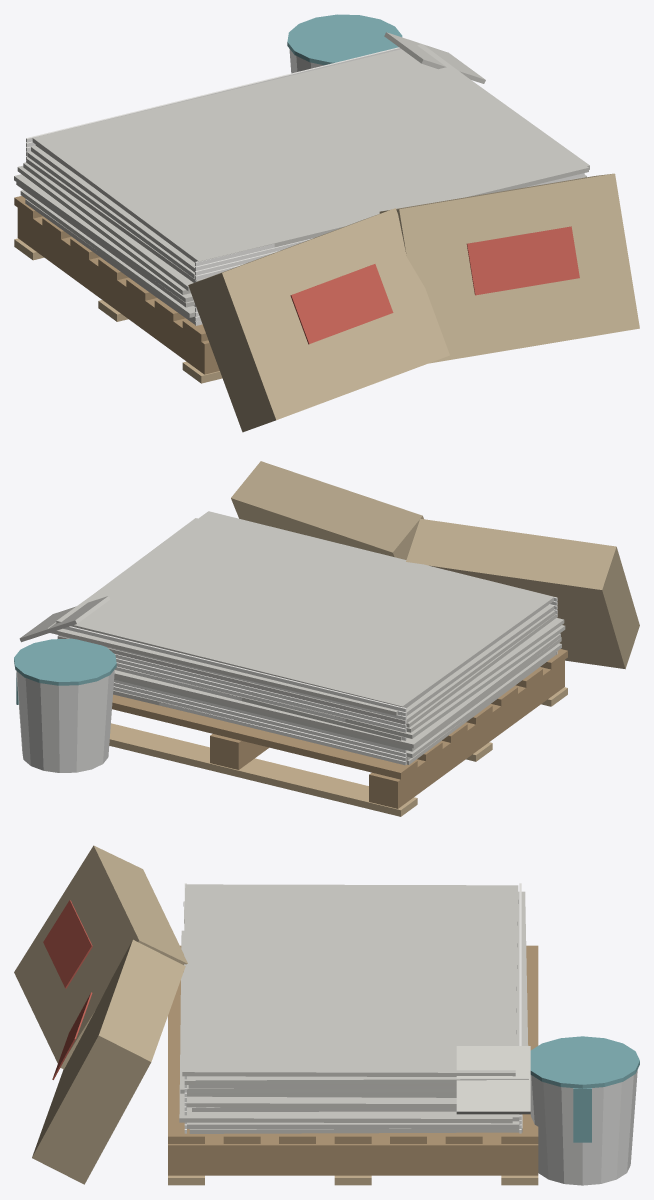
File: drywall_pallet.glb
The picture shows the model from 3 angles, top to bottom: view 1: azimuth 30°, elevation 25°; view 2: azimuth 150°, elevation 25°; view 3: azimuth 270°, elevation 25°; orthographic projection. The views are drawn at different scales.
Parts seen in each view (by area): view 1: DrywallPallet; view 2: DrywallPallet; view 3: DrywallPallet.
Part boxes in pixels (bbox=[...]): DrywallPallet: bbox=[14, 14, 639, 432]; DrywallPallet: bbox=[14, 461, 639, 816]; DrywallPallet: bbox=[14, 845, 639, 1185].
Size of the model in its own units: 1.41 by 0.4478 by 1.69.
